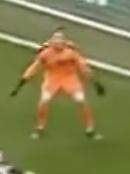goalkeeper: (5, 18, 117, 151)
